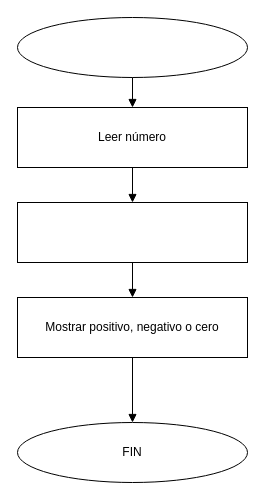
Some shapes in this 265 by 500 pixel diagram are drawn without their labels. The shapes that lost their labels are listed below. From the top down, each one's centre as x and y in pixels, then its label:
At pixel 132 47: "INICIO · Ejercicio 78".
At pixel 132 232: "Comparar con cero".
